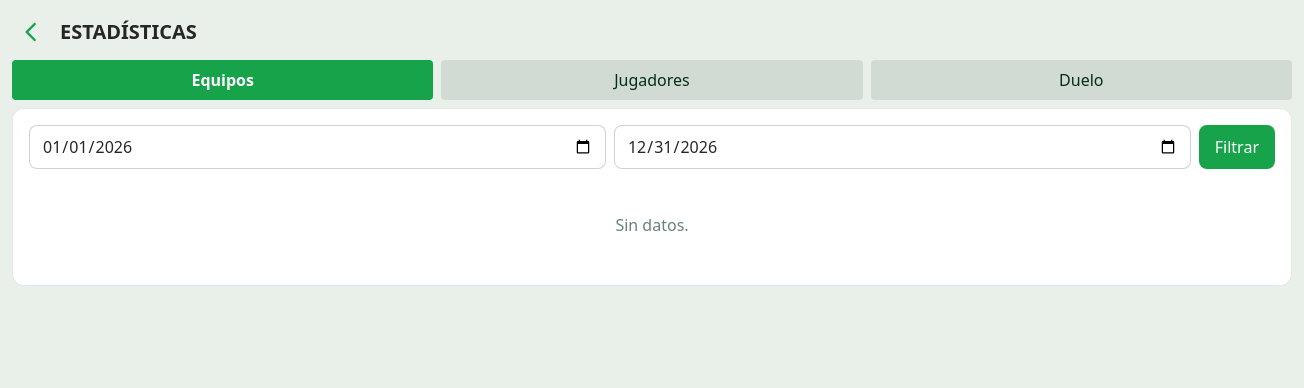
Test case: EstadisticasPage jugadores › muestra columnas TA y TR con los conteos
Click the tab "Jugadores" at [652, 80], box x1=441 y1=60 x2=863 y2=100
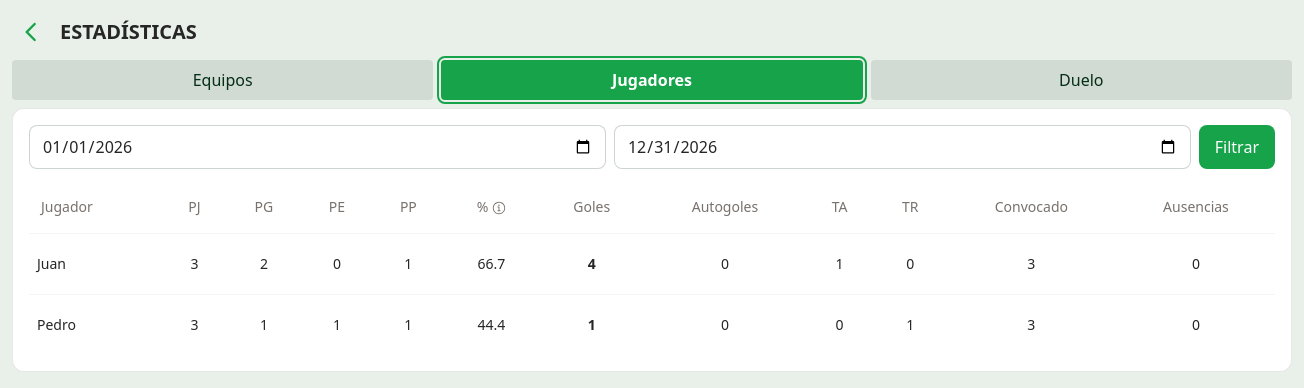
Expected: the button "TA" is shown, x1=824 y1=185 x2=856 y2=229
Expected: the button "TR" is shown, x1=894 y1=185 x2=926 y2=229
